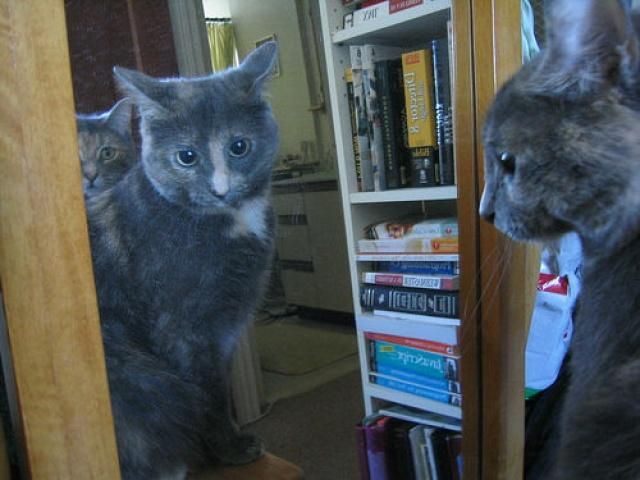Rak: (317, 0, 464, 479)
